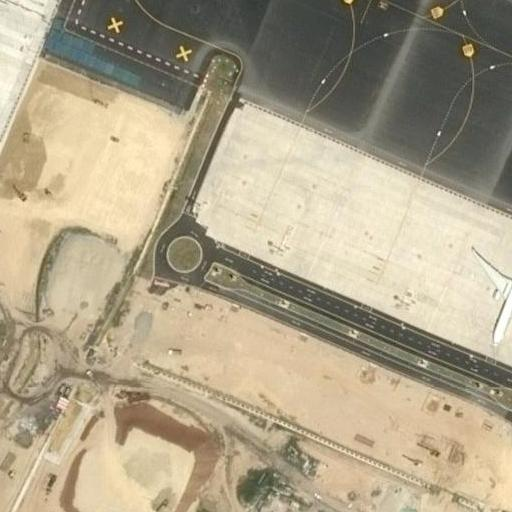Aircraft: (460, 217, 512, 343), (467, 216, 512, 345)
